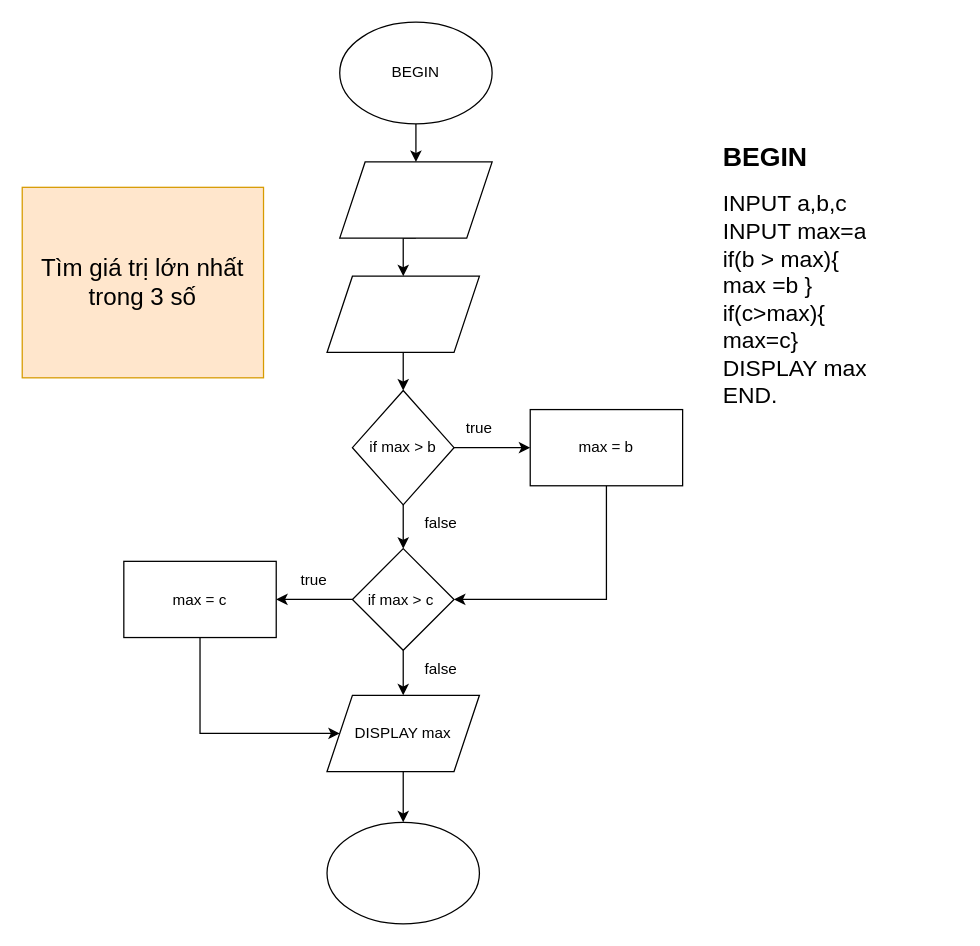
This 980x946 diagram has some shape labels left out. Here are the shapes that lost their labels. From the top down, the centre of each, then its label:
point (415, 199): INPUT a,b,c
point (402, 313): INPUT max =a
point (402, 872): END
